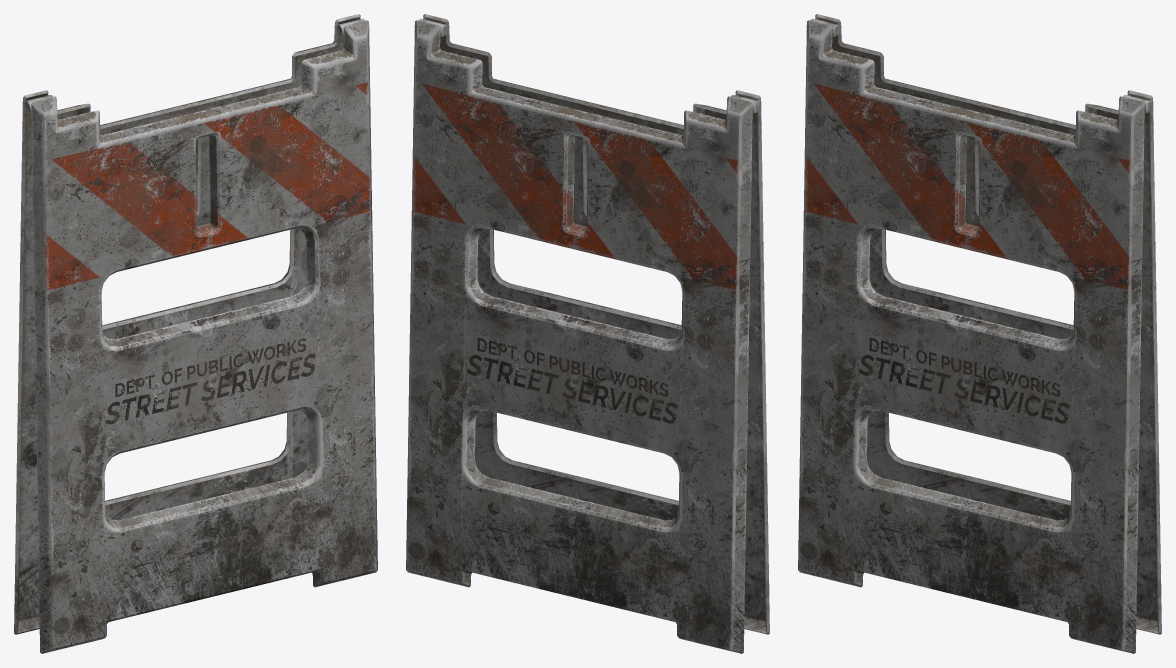
File: SM_Folded_Road_Sign.glb
The picture shows the model from 3 angles, left to right: view 1: azimuth 30°, elevation 25°; view 2: azimuth 150°, elevation 25°; view 3: azimuth 330°, elevation 25°; orthographic projection.
Visible parts, largest first — view 1: SM_Folded_Road_Sign; view 2: SM_Folded_Road_Sign; view 3: SM_Folded_Road_Sign.
Boxes of the visible parts, x1,y1,x2,y2 form: SM_Folded_Road_Sign: (14,14,377,653); SM_Folded_Road_Sign: (406,14,769,653); SM_Folded_Road_Sign: (798,14,1161,653).
Bounding box in the file's own units: 0.5808 × 0.8966 × 0.1119.
Materials: 1 (1 with a texture image).
